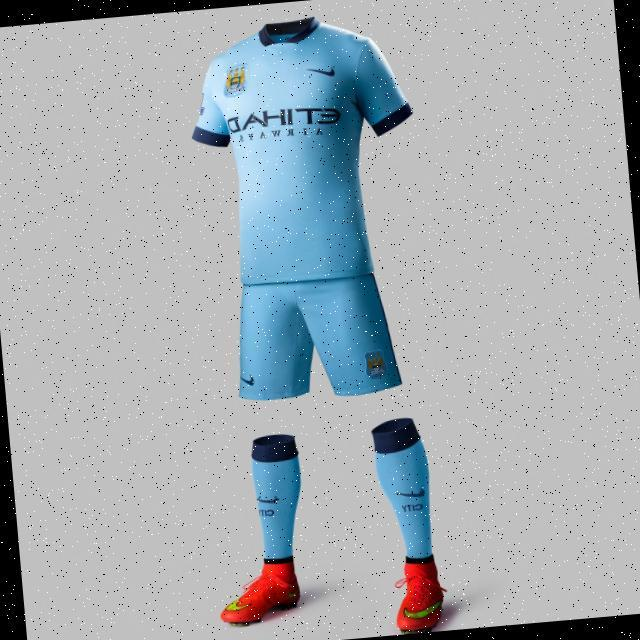Etihad Airways: (226, 104, 342, 144)
Nike: (403, 599, 446, 621), (224, 594, 253, 611), (305, 64, 335, 79), (394, 487, 425, 500), (256, 495, 279, 505), (240, 373, 255, 387), (286, 588, 300, 599)
